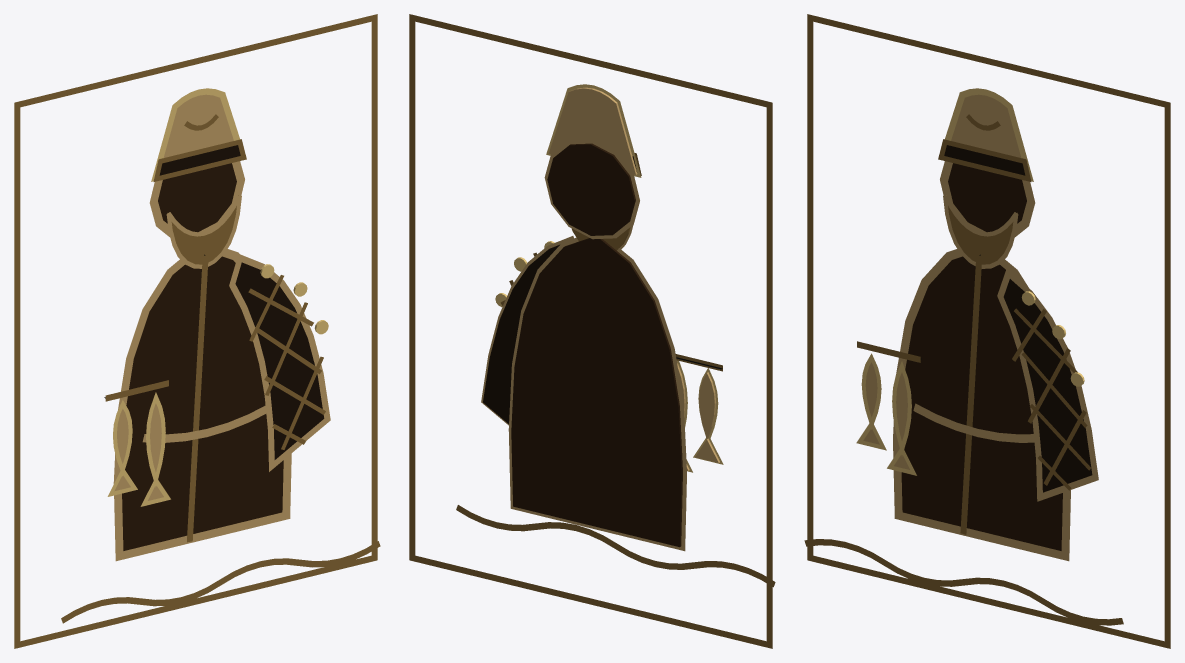
File: npc-rybak-issyk-kul.glb
3 renders of one model, left to right at view 1: azimuth 30°, elevation 25°; view 2: azimuth 150°, elevation 25°; view 3: azimuth 330°, elevation 25°, orthographic.
Visible parts, largest first — view 1: npc-rybak-issyk-kul; view 2: npc-rybak-issyk-kul; view 3: npc-rybak-issyk-kul.
Part boxes in pixels (x1,y1,x2,y2): npc-rybak-issyk-kul: (14, 14, 380, 648); npc-rybak-issyk-kul: (409, 14, 775, 648); npc-rybak-issyk-kul: (804, 14, 1170, 648).
Bounding box in the file's own units: 1.14 × 1.64 × 0.1354.
